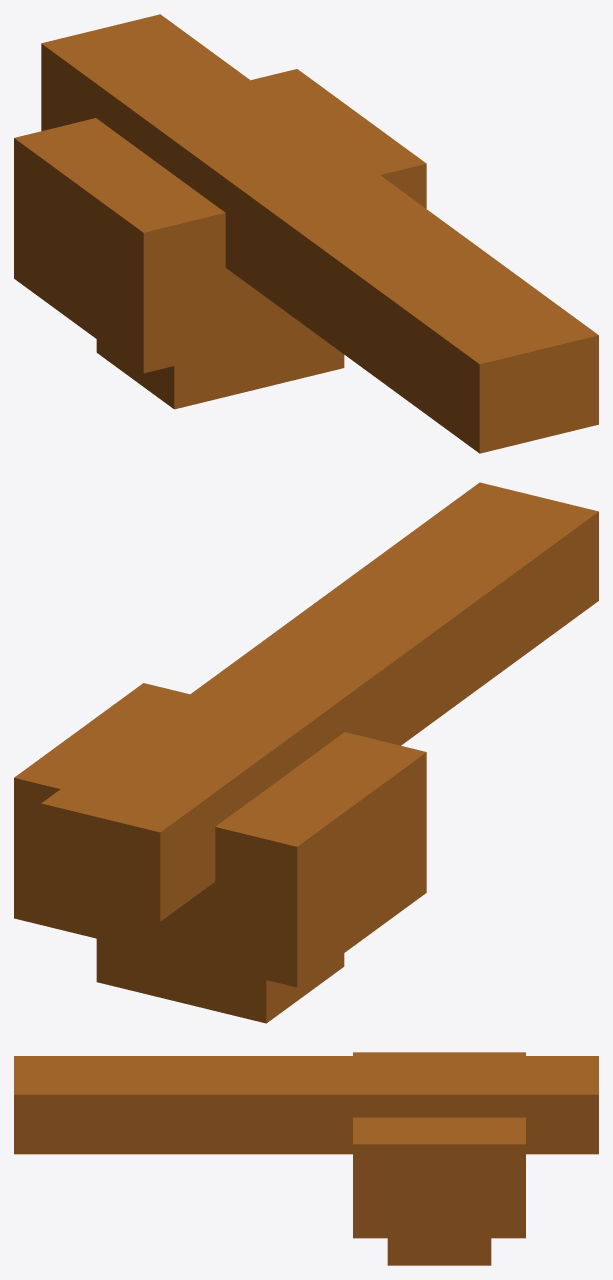
Rendered from ballistatop.fbx.
3 views of the same model, one above another, from view 1: azimuth 30°, elevation 25°; view 2: azimuth 150°, elevation 25°; view 3: azimuth 270°, elevation 25° (orthographic). The views are drawn at different scales.
Visible parts, largest first — view 1: polySurface81; view 2: polySurface81; view 3: polySurface81.
Boxes of the visible parts, box(x1,y1,x2,y2) form: polySurface81: box(14, 14, 598, 453); polySurface81: box(14, 482, 598, 1023); polySurface81: box(14, 1052, 598, 1265).
Bounding box in the file's own units: 17.68 × 14.55 × 47.42.
1 material, 1 textured.
